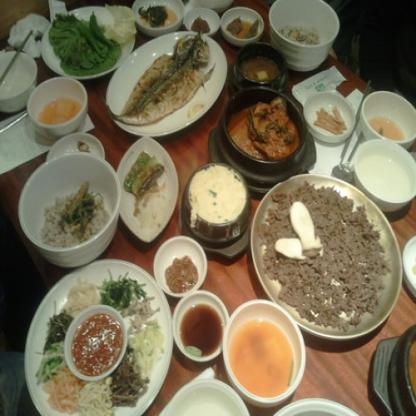Peixe: (115, 29, 215, 146)
